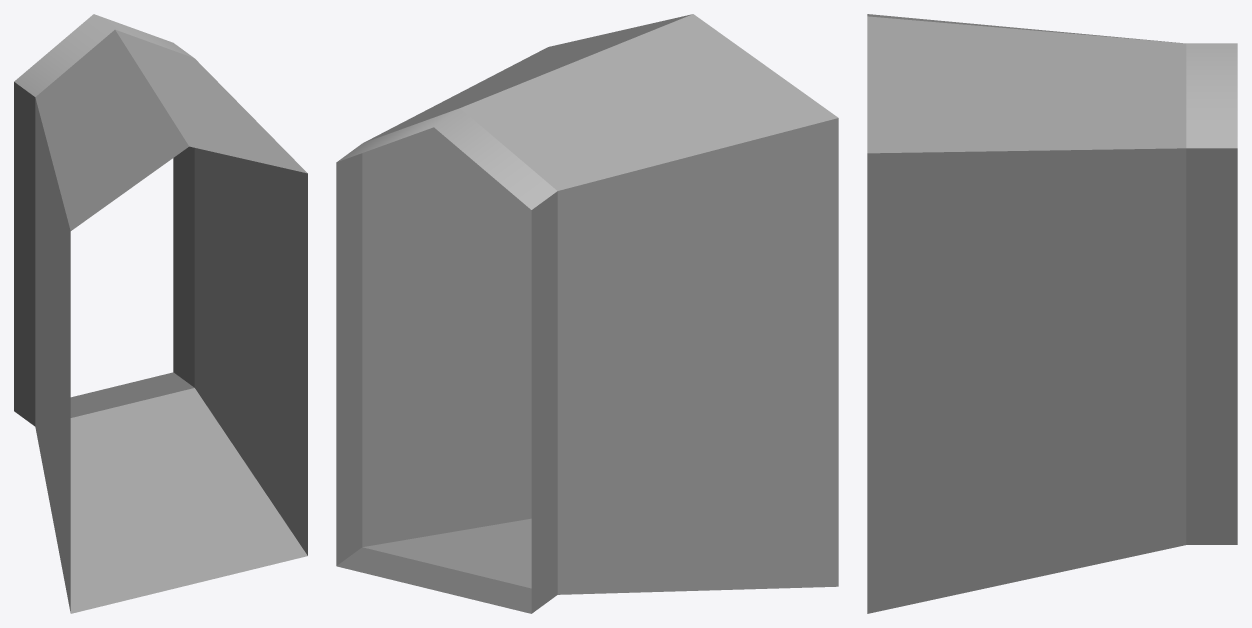
Rendered from AI_FX_Chruch_ColourRay_smaller.fbx.
3 renders of one model, left to right at view 1: azimuth 30°, elevation 25°; view 2: azimuth 150°, elevation 25°; view 3: azimuth 270°, elevation 25°, orthographic. The views are drawn at different scales.
Visible parts, largest first — view 1: AI_FX_Chruch_ColourRay_smaller; view 2: AI_FX_Chruch_ColourRay_smaller; view 3: AI_FX_Chruch_ColourRay_smaller.
Boxes of the visible parts, x1,y1,x2,y2 form: AI_FX_Chruch_ColourRay_smaller: (14, 14, 307, 613); AI_FX_Chruch_ColourRay_smaller: (336, 14, 838, 613); AI_FX_Chruch_ColourRay_smaller: (867, 14, 1237, 613).
Size of the model in its own units: 3.55 by 5.88 by 3.69.
